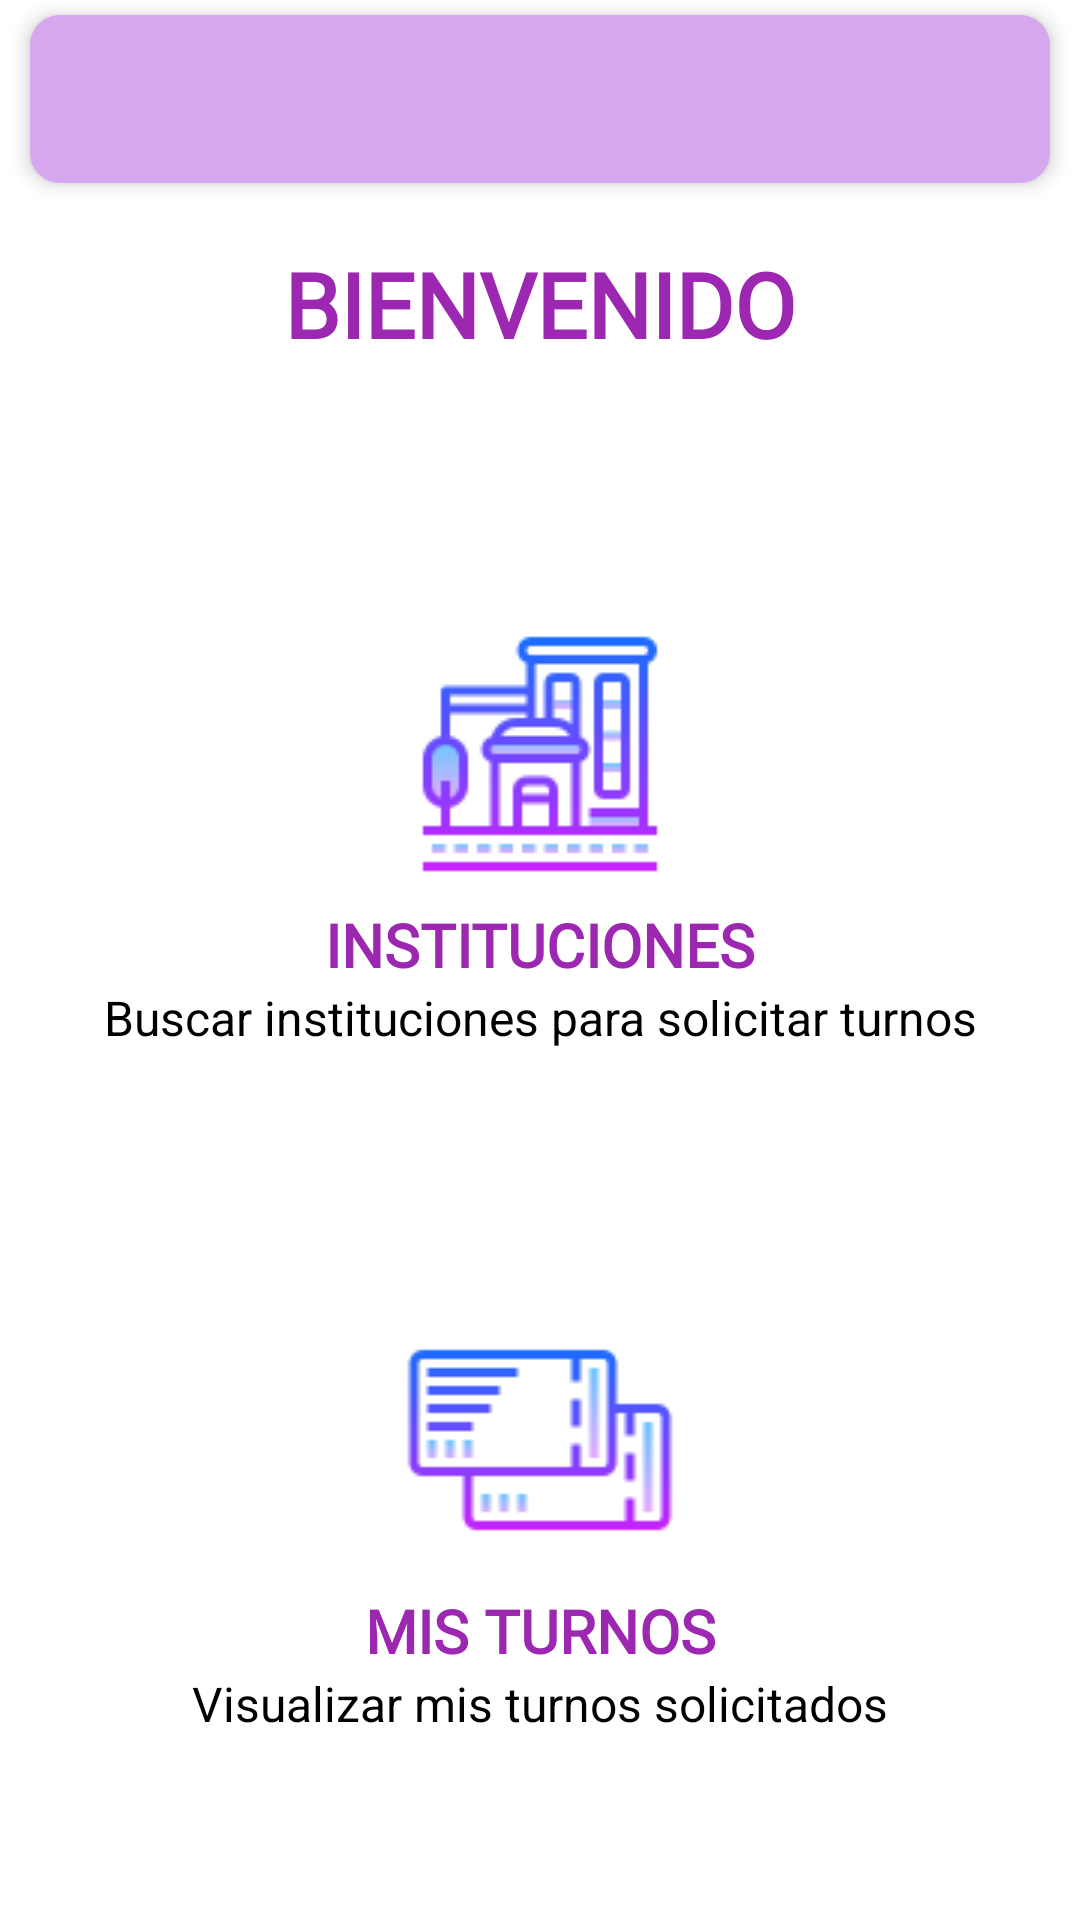

Locate icon controls on the screen. Image size 1080px×1920px, boxes as (x1=x1, y1=y1, x2=x2, y2=y2).
city: (x1=422, y1=636, x2=658, y2=872)
two tickets: (x1=407, y1=1349, x2=673, y2=1531)
